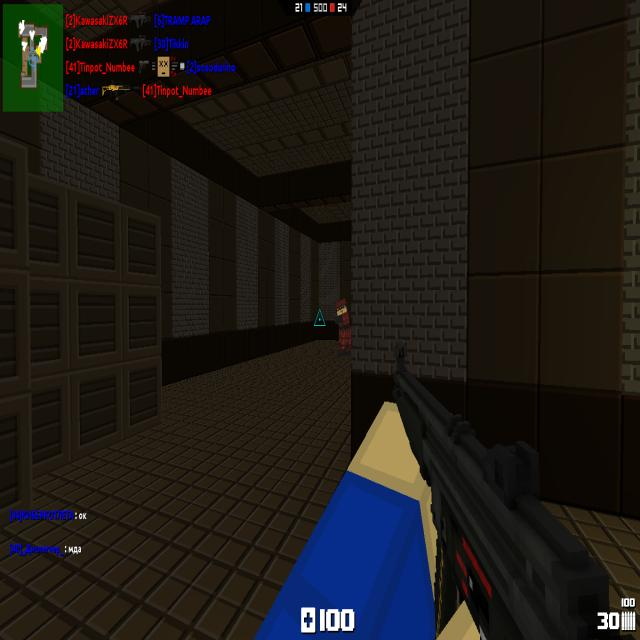enemy: (335, 297, 351, 357)
